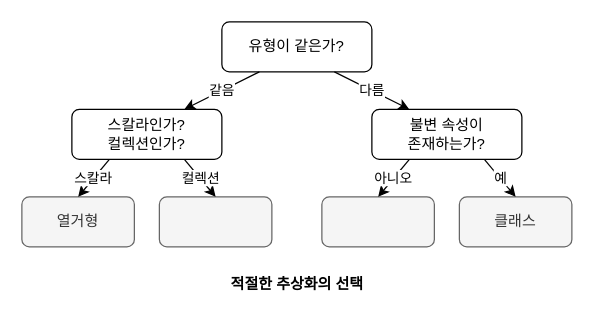
Image size: 594x319. Some labels were removed from this diagram. The shapes that lost their labels are listed below. From the top down, each one's centre as x and y in pixels, then its label:
point (215, 221): 딕셔너리
point (377, 221): 데이터 클래스
